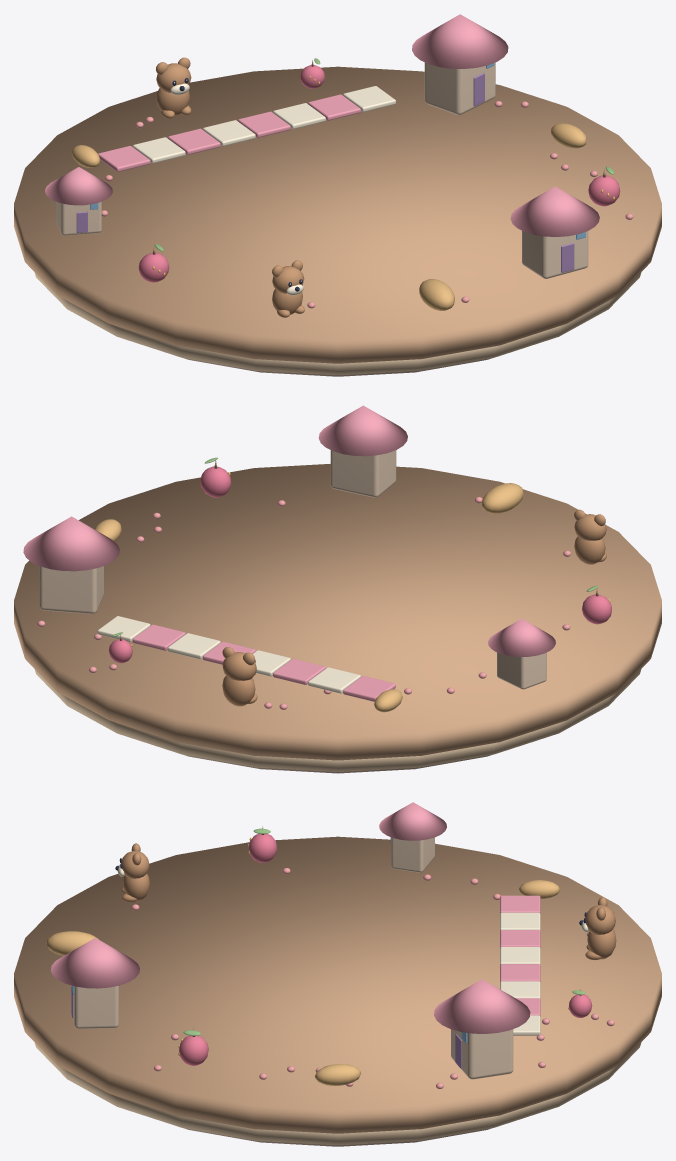
The model's file is world.glb.
3 views of the same model, one above another, from view 1: azimuth 30°, elevation 25°; view 2: azimuth 150°, elevation 25°; view 3: azimuth 270°, elevation 25° (orthographic).
Visible parts, largest first — view 1: Cone, Cone.001, house.001, house.003, house.002, bear.001, bear.002, bread.003, Cube, strawberry.003, Cube.002, Cube.001 (+8 smaller); view 2: Cone, Cone.001, house.001, house.003, house.002, bear.001, bear.002, bread.003, Cube.006, Cube.001, Cube.005, Cube.002 (+6 smaller); view 3: Cone, Cone.001, house.001, house.003, house.002, bear.001, bear.002, strawberry.003, bread.001, bread.003, strawberry.002, Cube (+8 smaller).
Boxes of the visible parts, <box> form: Cone: <box>14,66,661,363</box>; Cone.001: <box>34,272,641,375</box>; house.001: <box>412,14,508,114</box>; house.003: <box>510,186,599,278</box>; house.002: <box>45,167,112,235</box>; bear.001: <box>156,57,191,118</box>; bear.002: <box>272,260,304,317</box>; bread.003: <box>419,279,454,310</box>; Cube: <box>98,146,150,171</box>; strawberry.003: <box>588,166,620,206</box>; Cube.002: <box>167,128,220,154</box>; Cube.001: <box>132,137,185,163</box>; Cone: <box>14,464,661,760</box>; Cone.001: <box>34,669,641,771</box>; house.001: <box>23,516,119,613</box>; house.003: <box>318,405,407,497</box>; house.002: <box>488,618,555,689</box>; bear.001: <box>222,647,257,706</box>; bear.002: <box>574,509,606,564</box>; bread.003: <box>481,483,523,513</box>; Cube.006: <box>132,624,185,650</box>; Cube.001: <box>308,667,360,693</box>; Cube.005: <box>167,633,220,659</box>; Cube.002: <box>273,658,325,684</box>; Cone: <box>14,836,661,1133</box>; Cone.001: <box>34,1042,641,1145</box>; house.001: <box>434,979,530,1079</box>; house.003: <box>51,938,139,1028</box>; house.002: <box>379,802,446,872</box>; bear.001: <box>579,897,616,960</box>; bear.002: <box>115,843,149,902</box>; strawberry.003: <box>178,1027,208,1065</box>; bread.001: <box>315,1064,360,1085</box>; bread.003: <box>46,931,98,955</box>; strawberry.002: <box>248,826,277,862</box>; Cube: <box>500,895,540,913</box>.
Size of the model in its own units: 9.6 by 2.23 by 9.6.
